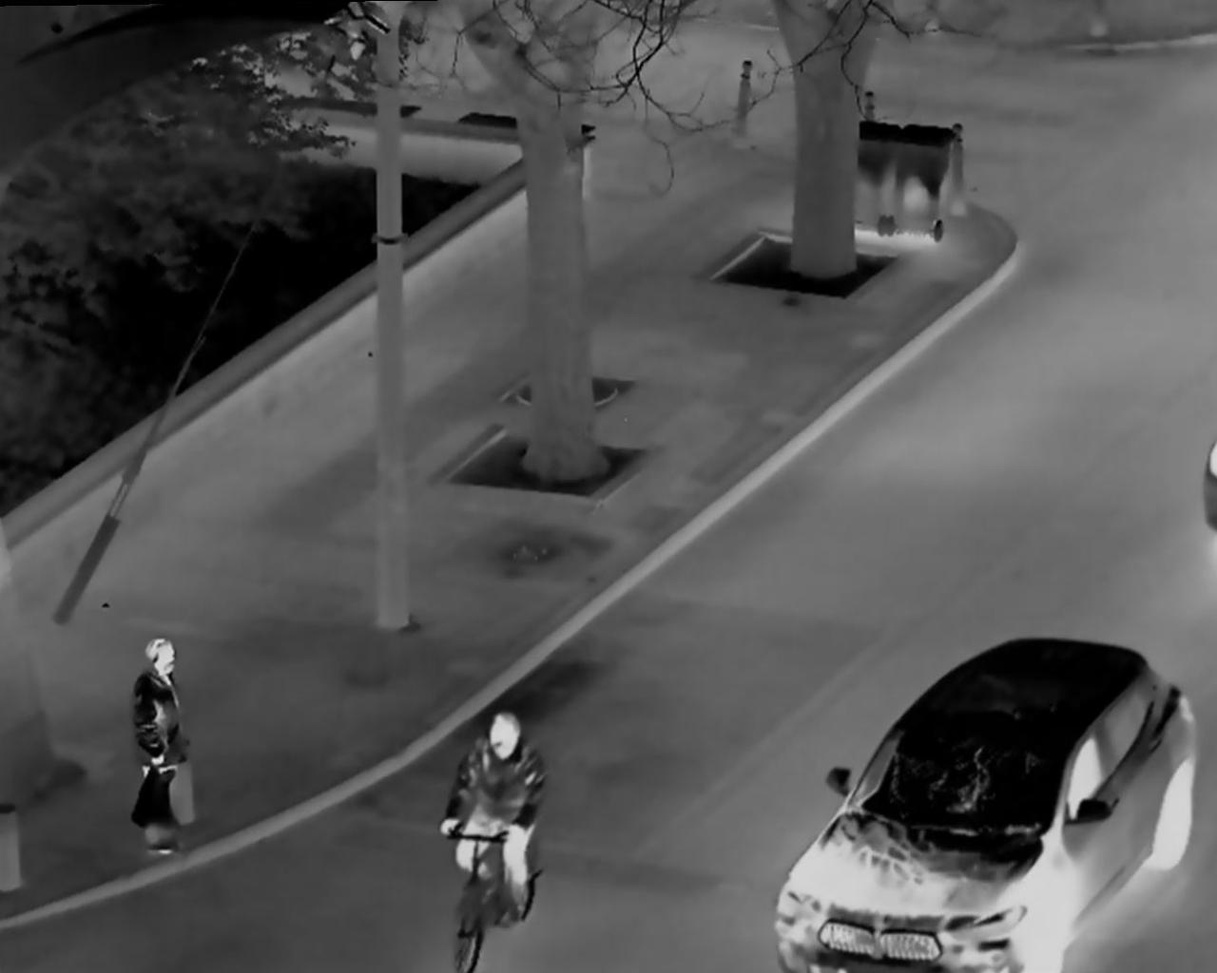person: (435, 702, 553, 951), (106, 614, 212, 885)
